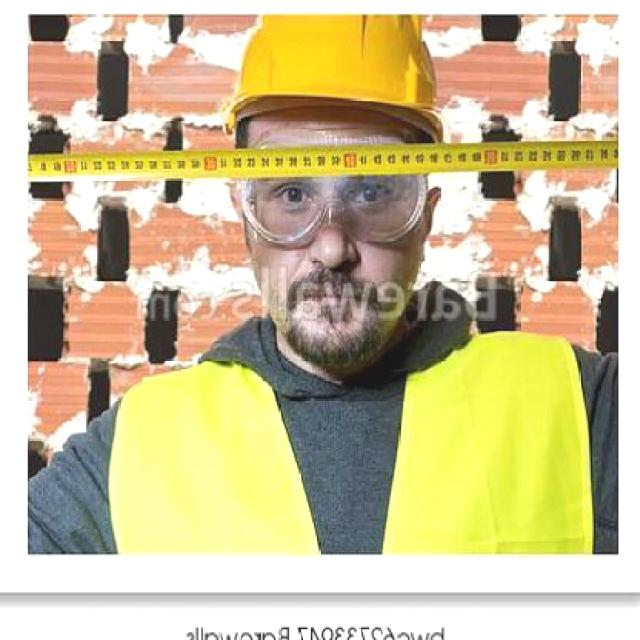face_nomask: (273, 174, 402, 314)
glasses: (248, 142, 429, 248)
head_helmet: (224, 11, 441, 138)
person: (59, 15, 612, 554)
vest: (119, 327, 598, 559)
